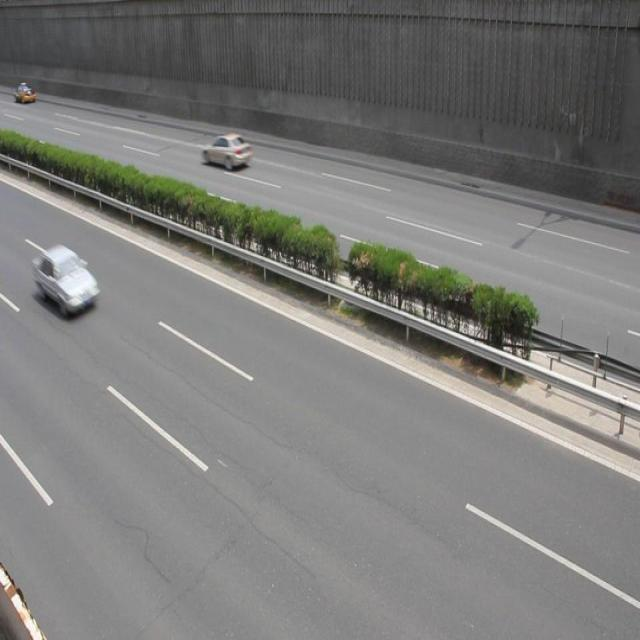car: (32, 242, 97, 314), (200, 130, 250, 171)
